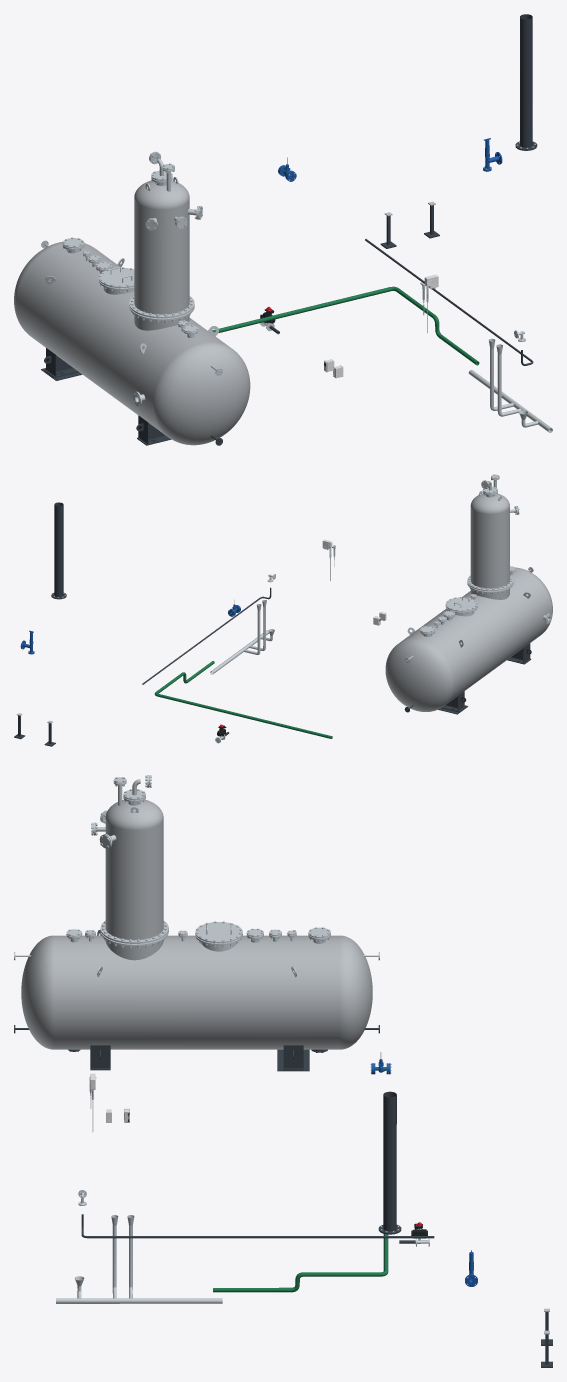
The picture shows the model from 3 angles, top to bottom: view 1: azimuth 30°, elevation 25°; view 2: azimuth 150°, elevation 25°; view 3: azimuth 270°, elevation 25°; orthographic projection. The views are drawn at different scales.
Visible parts, largest first — view 1: deaerator CAD solid 56, deaerator CAD solid 257, bdv_vent / dark, suction_common / green, local_open_drains / steel, deaerator CAD solid 408, tds_common / dark; view 2: deaerator CAD solid 56, deaerator CAD solid 257, bdv_vent / dark, suction_common / green, local_open_drains / steel, deaerator CAD solid 408; view 3: deaerator CAD solid 56, deaerator CAD solid 257, bdv_vent / dark, local_open_drains / steel, suction_common / green, tds_common / dark, deaerator CAD solid 408.
Part boxes in pixels (left/top/right/bottom): deaerator CAD solid 56: left=14, top=241, right=250, bottom=445; deaerator CAD solid 257: left=134, top=180, right=189, bottom=314; bdv_vent / dark: left=515, top=14, right=537, bottom=150; suction_common / green: left=212, top=286, right=479, bottom=365; local_open_drains / steel: left=468, top=338, right=552, bottom=432; deaerator CAD solid 408: left=99, top=267, right=134, bottom=287; tds_common / dark: left=365, top=239, right=533, bottom=365; deaerator CAD solid 56: left=385, top=567, right=552, bottom=711; deaerator CAD solid 257: left=470, top=493, right=509, bottom=588; bdv_vent / dark: left=51, top=502, right=66, bottom=599; suction_common / green: left=154, top=661, right=332, bottom=738; local_open_drains / steel: left=210, top=600, right=274, bottom=674; deaerator CAD solid 408: left=445, top=597, right=477, bottom=611; deaerator CAD solid 56: left=21, top=935, right=372, bottom=1049; deaerator CAD solid 257: left=105, top=799, right=163, bottom=940; bdv_vent / dark: left=378, top=1091, right=401, bottom=1234; local_open_drains / steel: left=56, top=1215, right=222, bottom=1303; suction_common / green: left=213, top=1234, right=388, bottom=1292; tds_common / dark: left=81, top=1214, right=434, bottom=1238; deaerator CAD solid 408: left=195, top=922, right=242, bottom=943.
Bounding box in the file's own units: 8.3 × 4.82 × 6.7.
